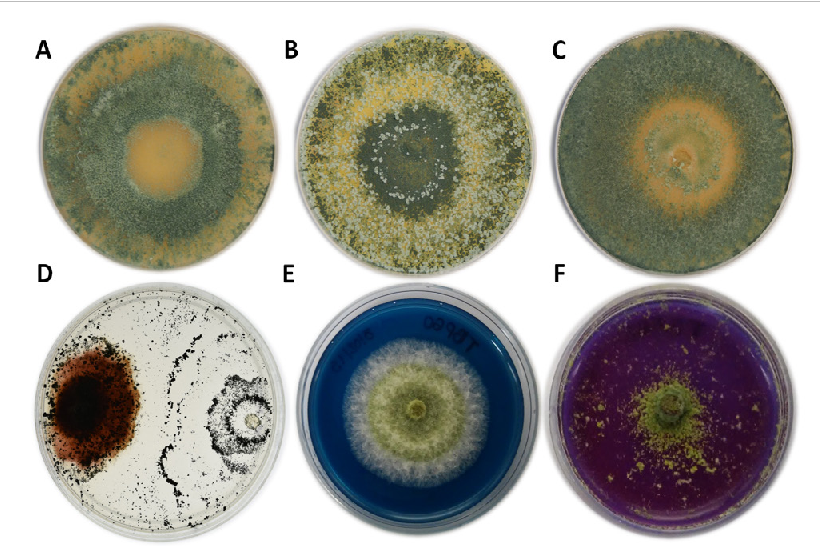Trichoderma: (54, 338, 270, 488), (580, 71, 769, 240), (323, 68, 518, 226), (70, 67, 244, 229), (343, 351, 490, 477), (625, 378, 725, 478)
